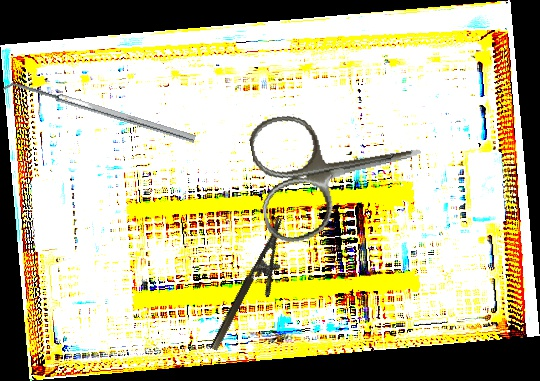Iris Scissors: (245, 90, 434, 248)
Needle Holder: (208, 216, 304, 361)
Spatula Surgical: (1, 77, 197, 151)
